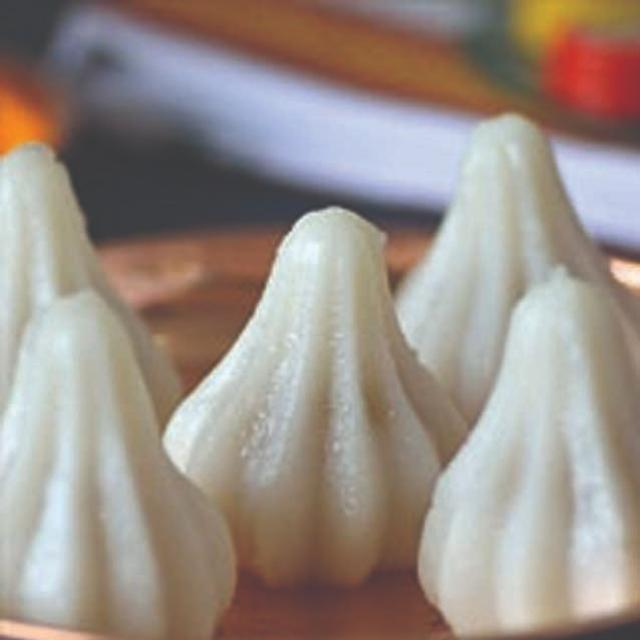poorna kolukattai: (164, 207, 468, 585), (1, 288, 238, 640), (415, 268, 638, 638), (395, 115, 633, 425), (4, 141, 177, 432)
